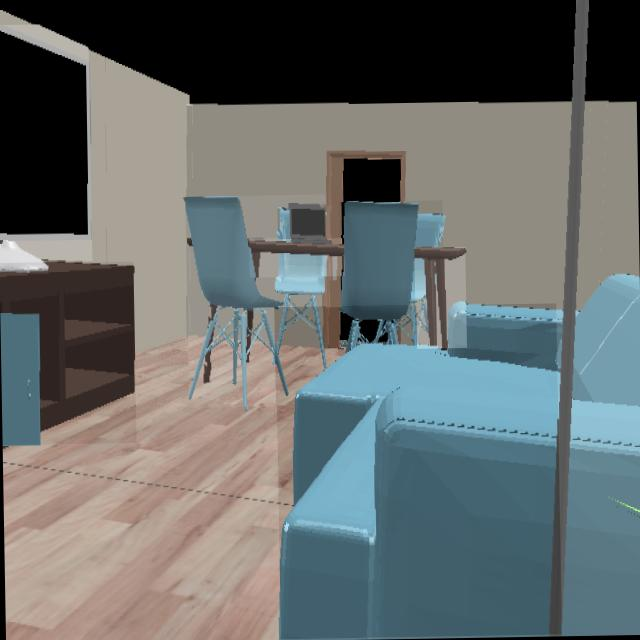cabinet: (0, 263, 134, 444)
chair: (186, 197, 327, 405), (341, 202, 441, 348), (279, 209, 289, 242)
laptop: (291, 206, 329, 242)
monitor: (0, 27, 91, 270)
sofa: (280, 305, 560, 639), (562, 275, 640, 634)
table: (416, 248, 465, 347), (250, 240, 344, 277), (248, 310, 253, 333), (206, 362, 211, 382), (210, 307, 216, 320)
